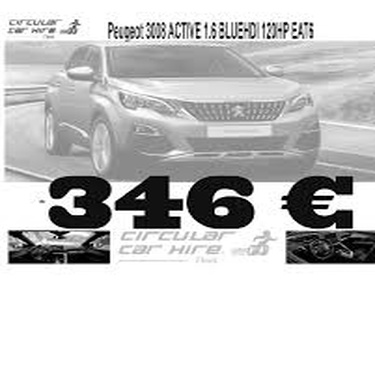car: (14, 28, 332, 175)
